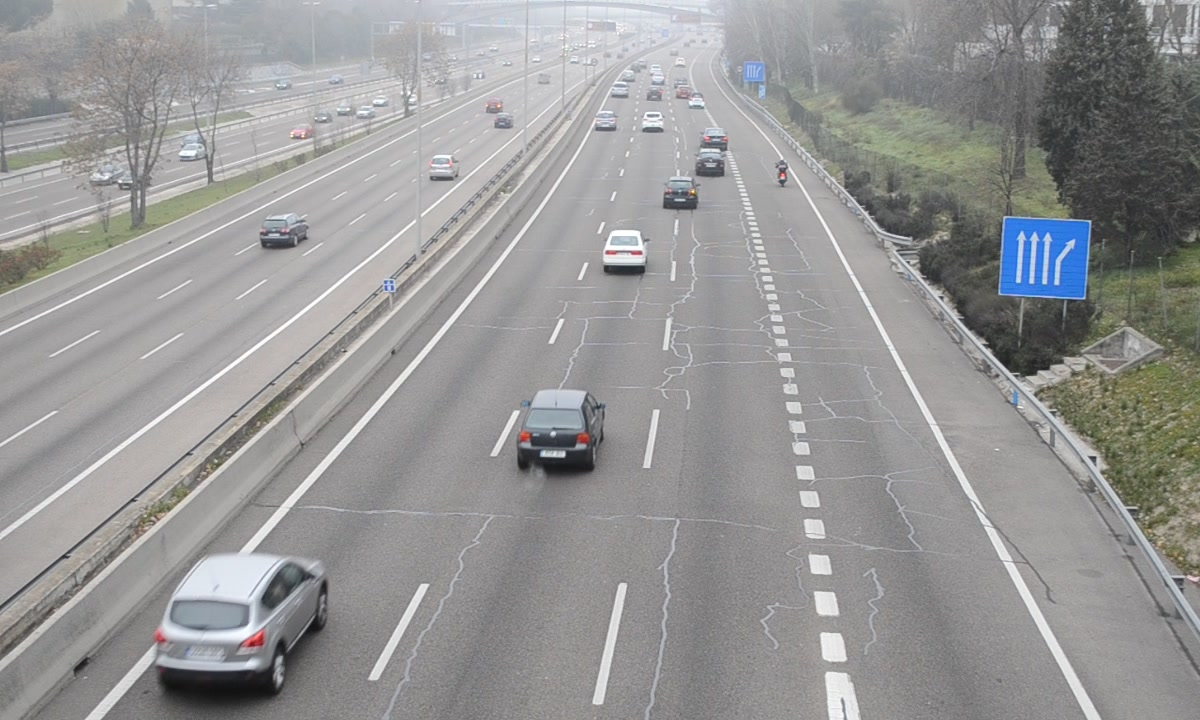car: (153, 555, 330, 680), (516, 389, 606, 468), (603, 229, 648, 268), (664, 176, 698, 208), (695, 148, 726, 178), (701, 126, 730, 150), (639, 110, 666, 133), (595, 109, 619, 133)
motorcycle: (774, 158, 790, 190)
